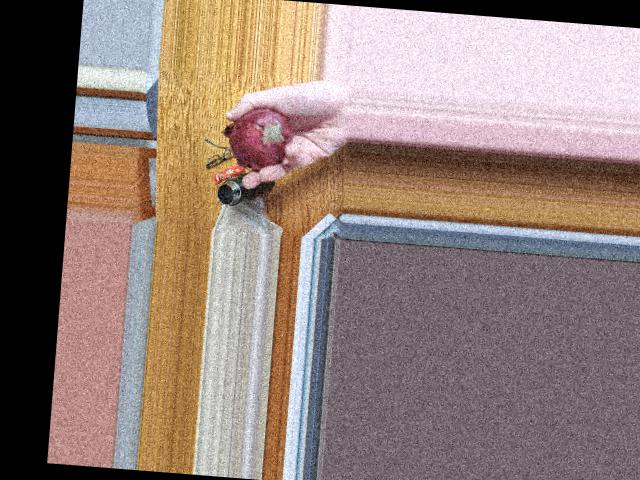onion: (231, 104, 301, 162)
